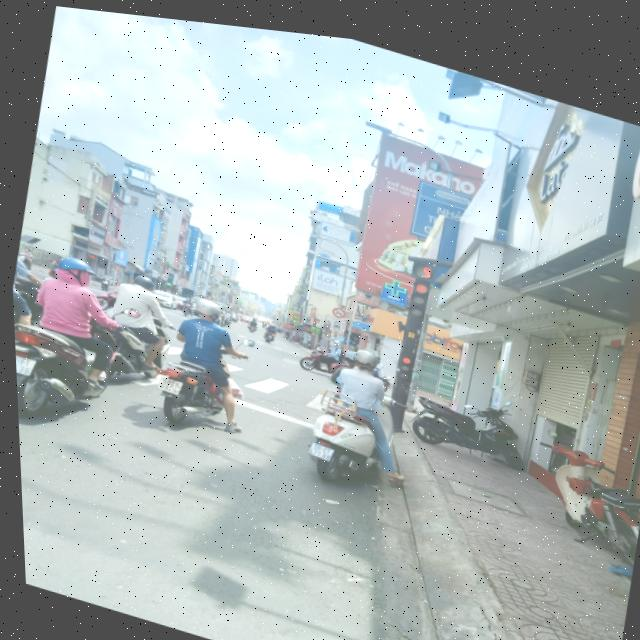Red: (402, 264, 433, 318), (390, 341, 416, 378)
